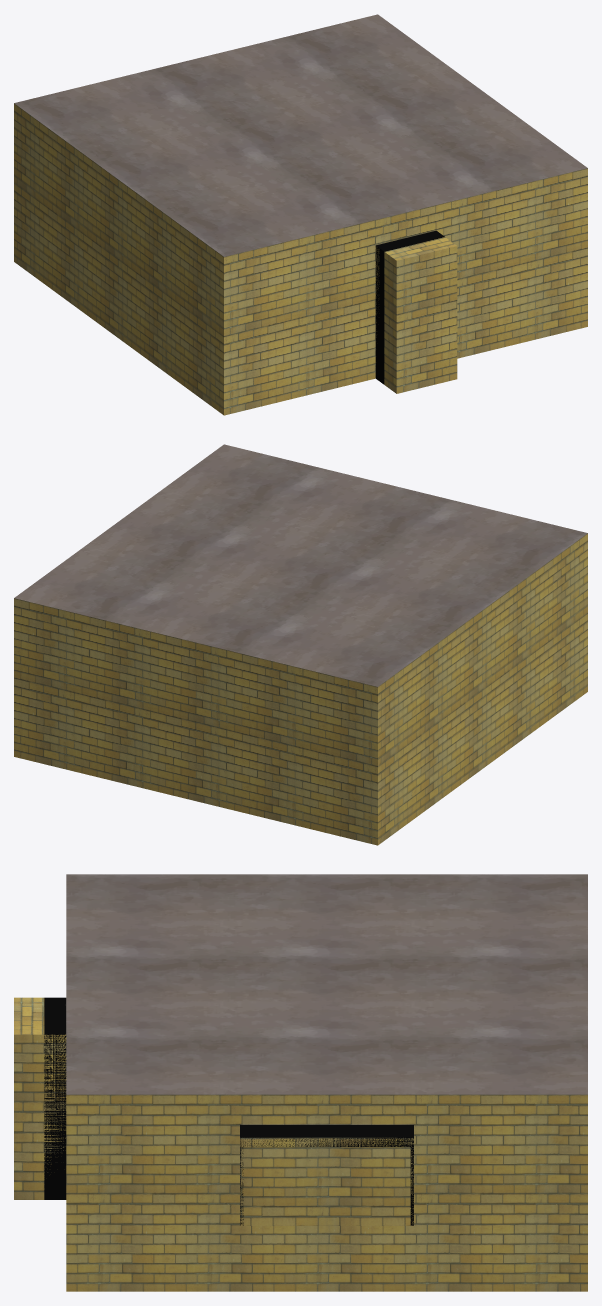
The model's file is test_room.gltf.
3 views of the same model, one above another, from view 1: azimuth 30°, elevation 25°; view 2: azimuth 150°, elevation 25°; view 3: azimuth 270°, elevation 25° (orthographic). The views are drawn at different scales.
Parts seen in each view (by area): view 1: Room, DoorFrame; view 2: Room; view 3: Room, DoorFrame, Blind_box.
Boxes of the visible parts, x1,y1,x2,y2 form: Room: (14,14,587,415); DoorFrame: (375,230,444,384); Room: (14,444,587,845); Room: (14,874,587,1291); DoorFrame: (44,997,66,1199); Blind_box: (240,1124,413,1146).
Size of the model in its own units: 208 by 82.02 by 217.
7 materials, 7 textured.
